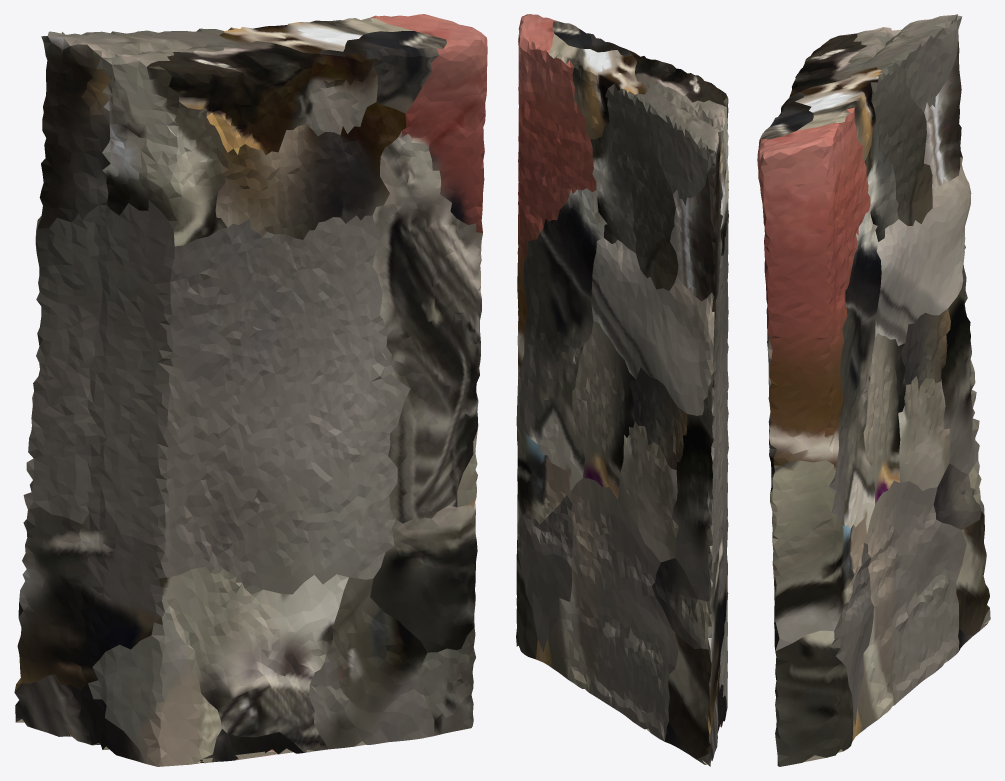
The model's file is AOT 1.fbx.
The picture shows the model from 3 angles, left to right: view 1: azimuth 30°, elevation 25°; view 2: azimuth 150°, elevation 25°; view 3: azimuth 270°, elevation 25°; orthographic projection. The views are drawn at different scales.
Parts seen in each view (by area): view 1: textured_output; view 2: textured_output; view 3: textured_output.
Boxes of the visible parts, <box> form: textured_output: <box>14,14,487,766</box>; textured_output: <box>516,14,728,766</box>; textured_output: <box>757,14,990,766</box>.
Size of the model in its own units: 99.12 by 193 by 66.19.
